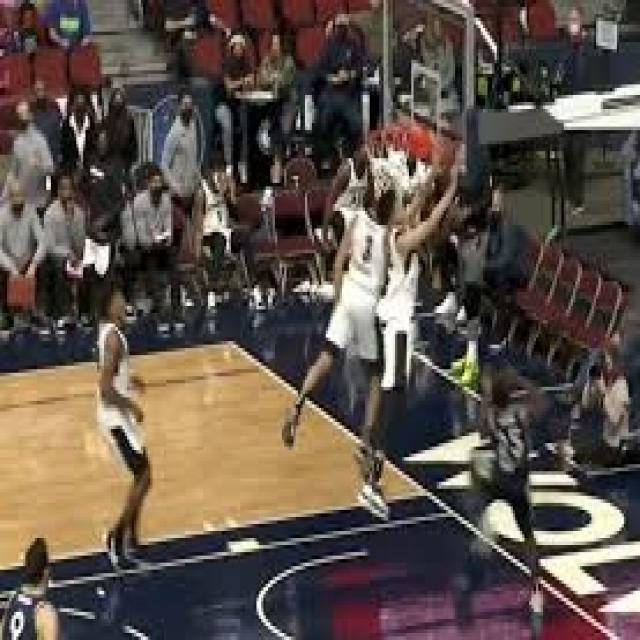rim: (430, 130, 458, 176)
